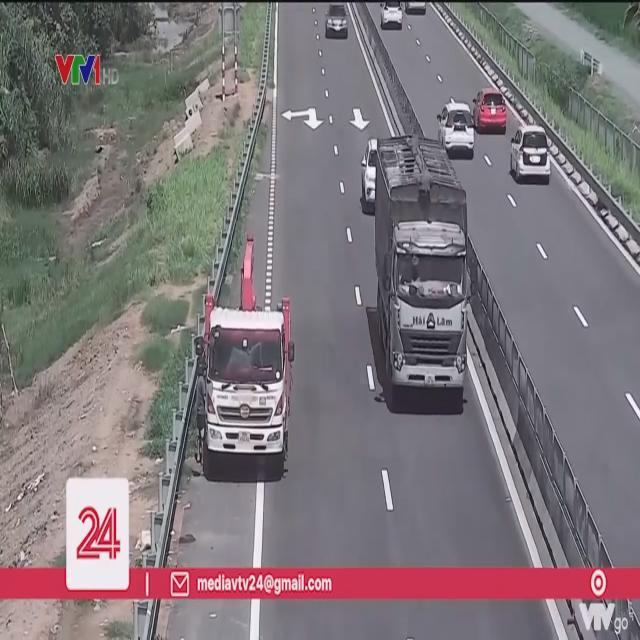car: (510, 126, 554, 185), (440, 106, 477, 160), (473, 89, 510, 134), (325, 4, 347, 44), (382, 4, 404, 32)
truck: (375, 132, 472, 411), (202, 291, 294, 479)
